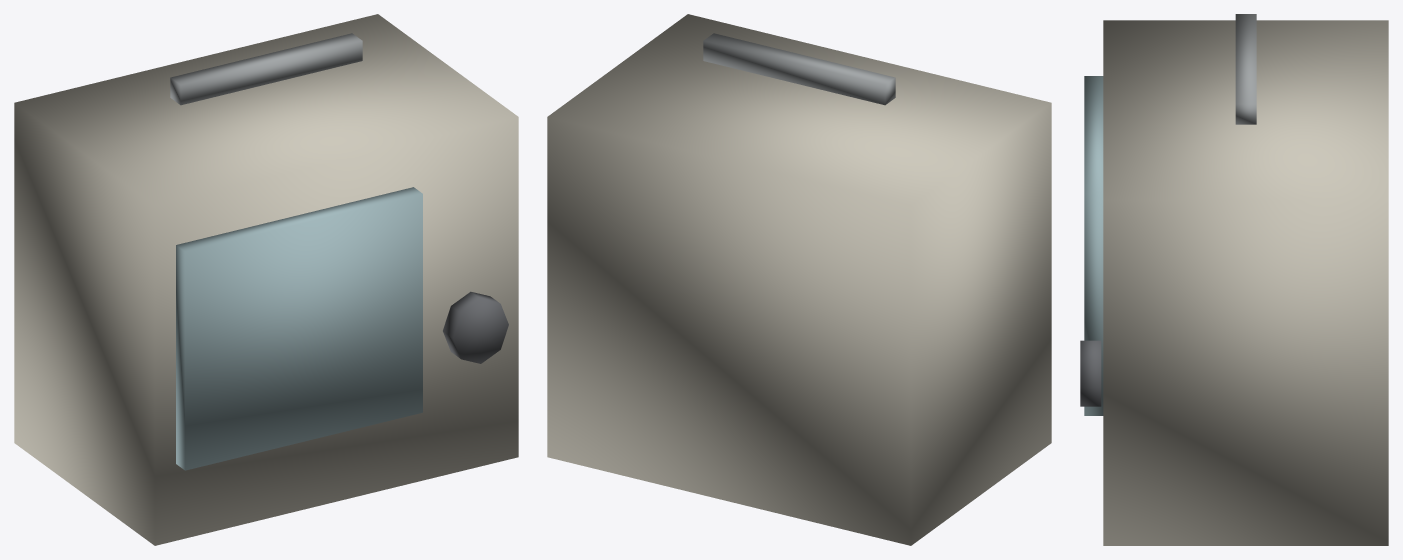
File: portable_television__compact.glb
The picture shows the model from 3 angles, left to right: view 1: azimuth 30°, elevation 25°; view 2: azimuth 150°, elevation 25°; view 3: azimuth 270°, elevation 25°; orthographic projection.
Parts seen in each view (by area): view 1: world; view 2: world; view 3: world.
Boxes of the visible parts, x1,y1,x2,y2 form: world: (14, 14, 518, 545); world: (547, 14, 1051, 545); world: (1080, 14, 1388, 545).
Size of the model in its own units: 0.4368 by 0.4487 by 0.316.
